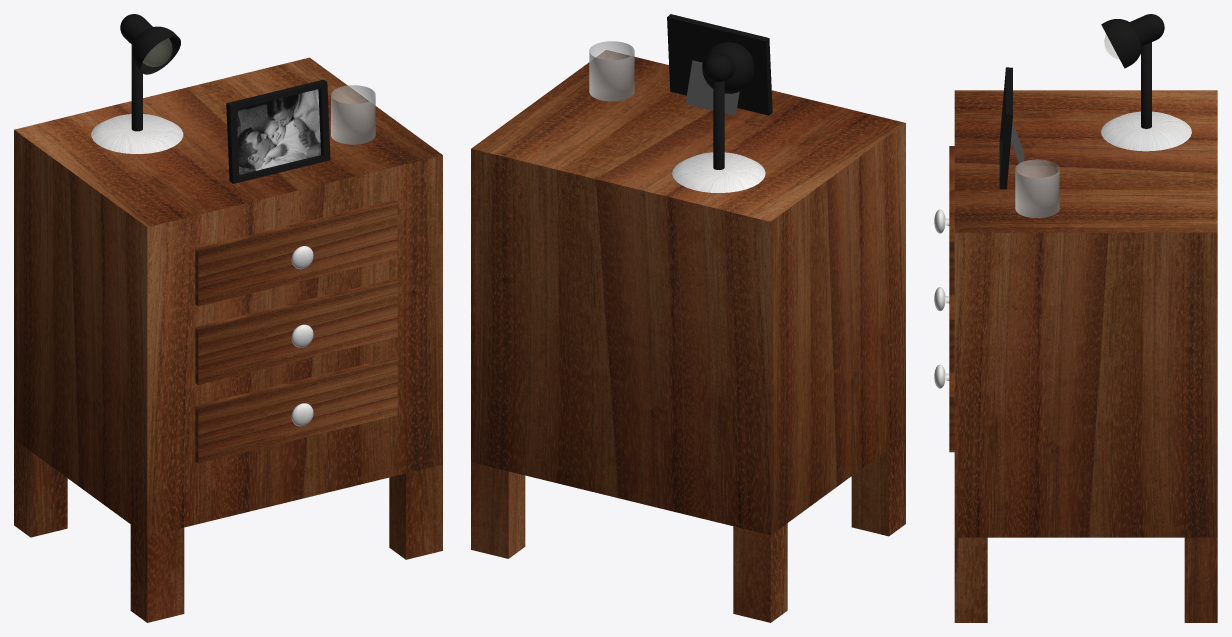
Rendered from nightstand2.fbx.
3 views of the same model, side by side, from view 1: azimuth 30°, elevation 25°; view 2: azimuth 150°, elevation 25°; view 3: azimuth 270°, elevation 25° (orthographic). The views are drawn at different scales.
Visible parts, largest first — view 1: Nightstand, Picture Frame, Lamp.004, Cup.001; view 2: Nightstand, Picture Frame, Lamp.004, Cup.001; view 3: Nightstand, Lamp.004, Cup.001, Picture Frame.
Part boxes in pixels (x1,y1,x2,y2): Nightstand: (14,57,442,622); Picture Frame: (226,79,330,183); Lamp.004: (91,14,183,153); Cup.001: (331,85,375,144); Nightstand: (471,50,905,622); Picture Frame: (667,14,772,116); Lamp.004: (672,42,765,192); Cup.001: (589,41,634,101); Nightstand: (934,90,1217,622); Lamp.004: (1101,14,1191,151); Cup.001: (1015,159,1059,217); Picture Frame: (999,67,1024,189).
Size of the model in its own units: 200 by 332 by 168.
